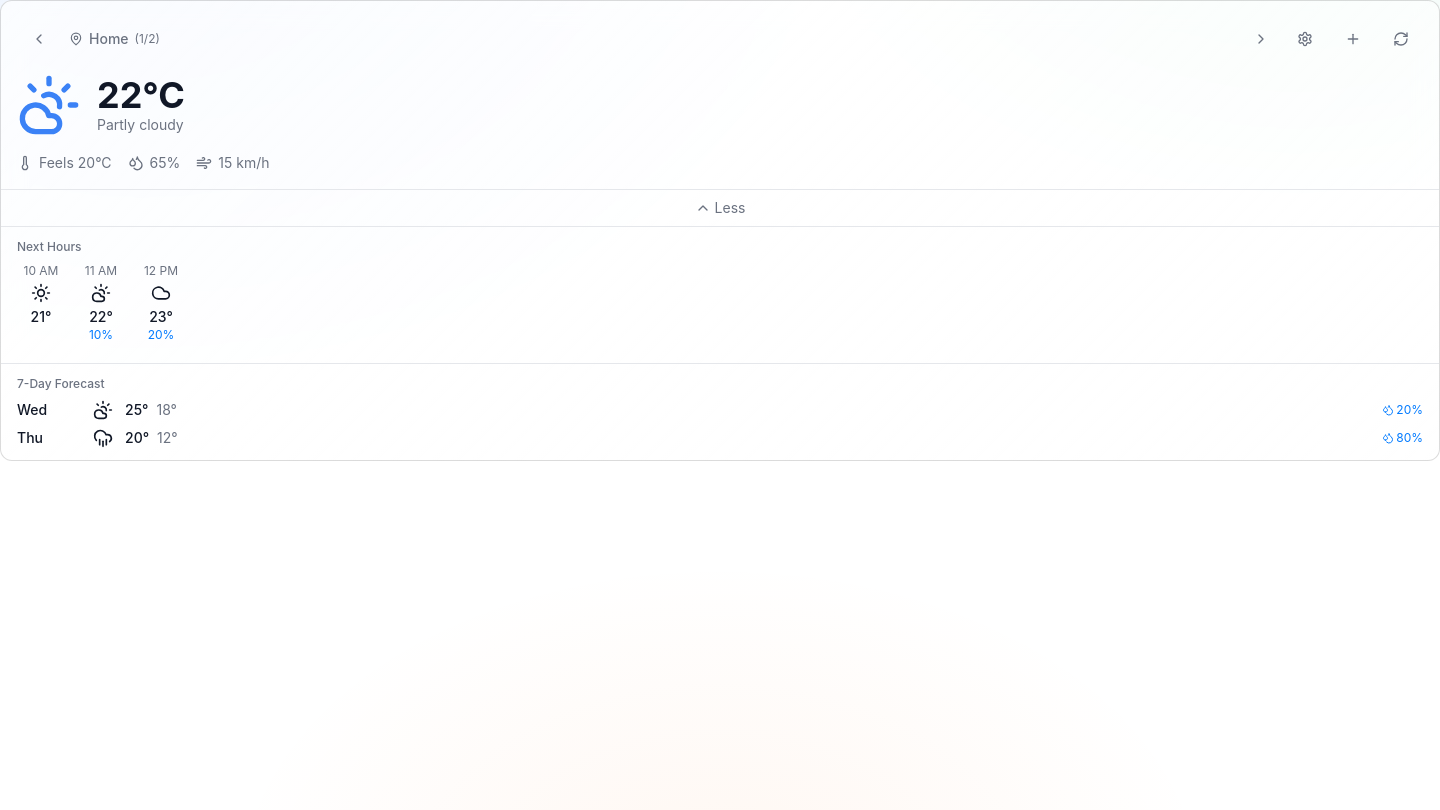
WeatherWidget › Add Location Modal › closes add location modal when cancel is clicked
Click the button titled "Add location" at (1353, 39), box [1331, 17, 1375, 61]
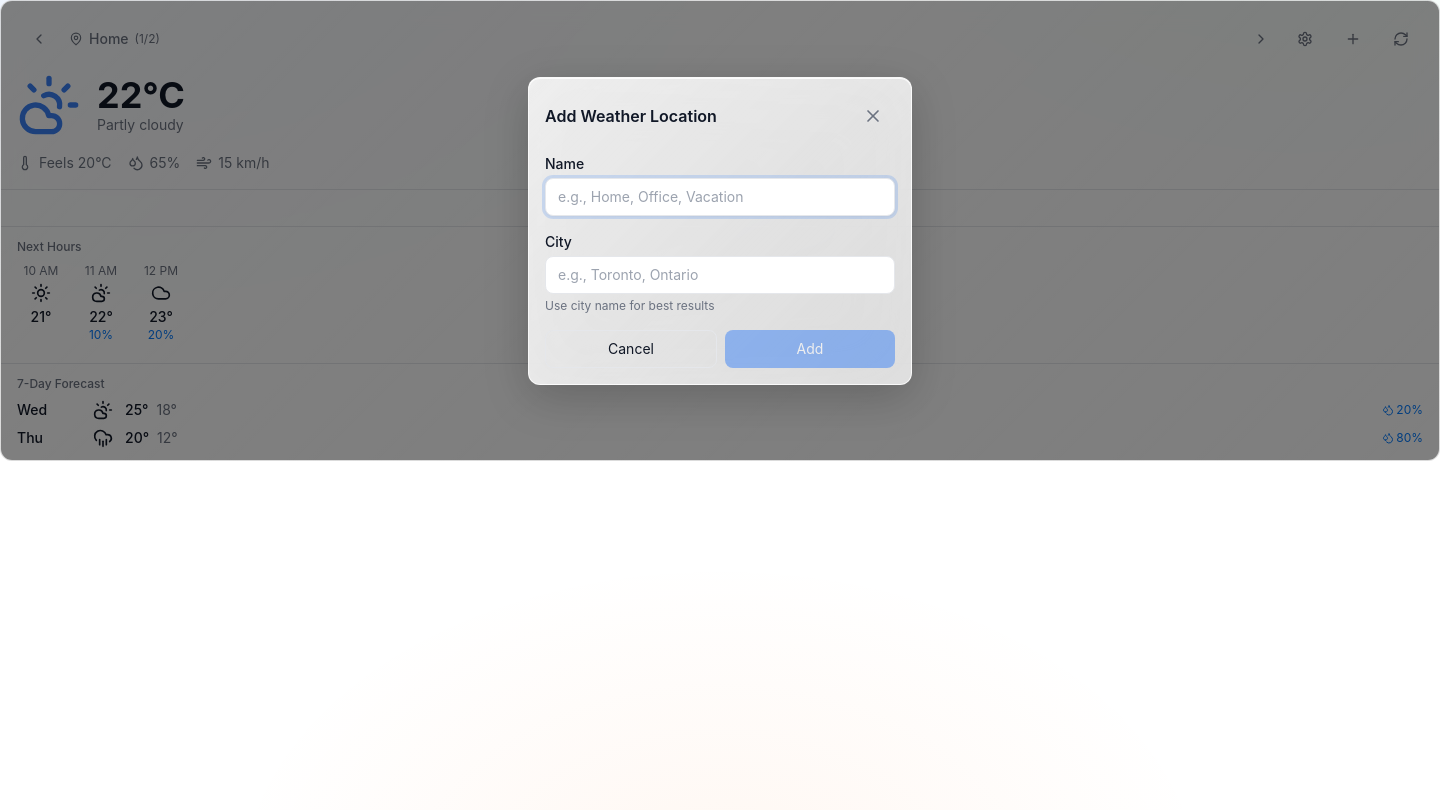
Click the button "Cancel" at (631, 348), box [545, 330, 717, 368]
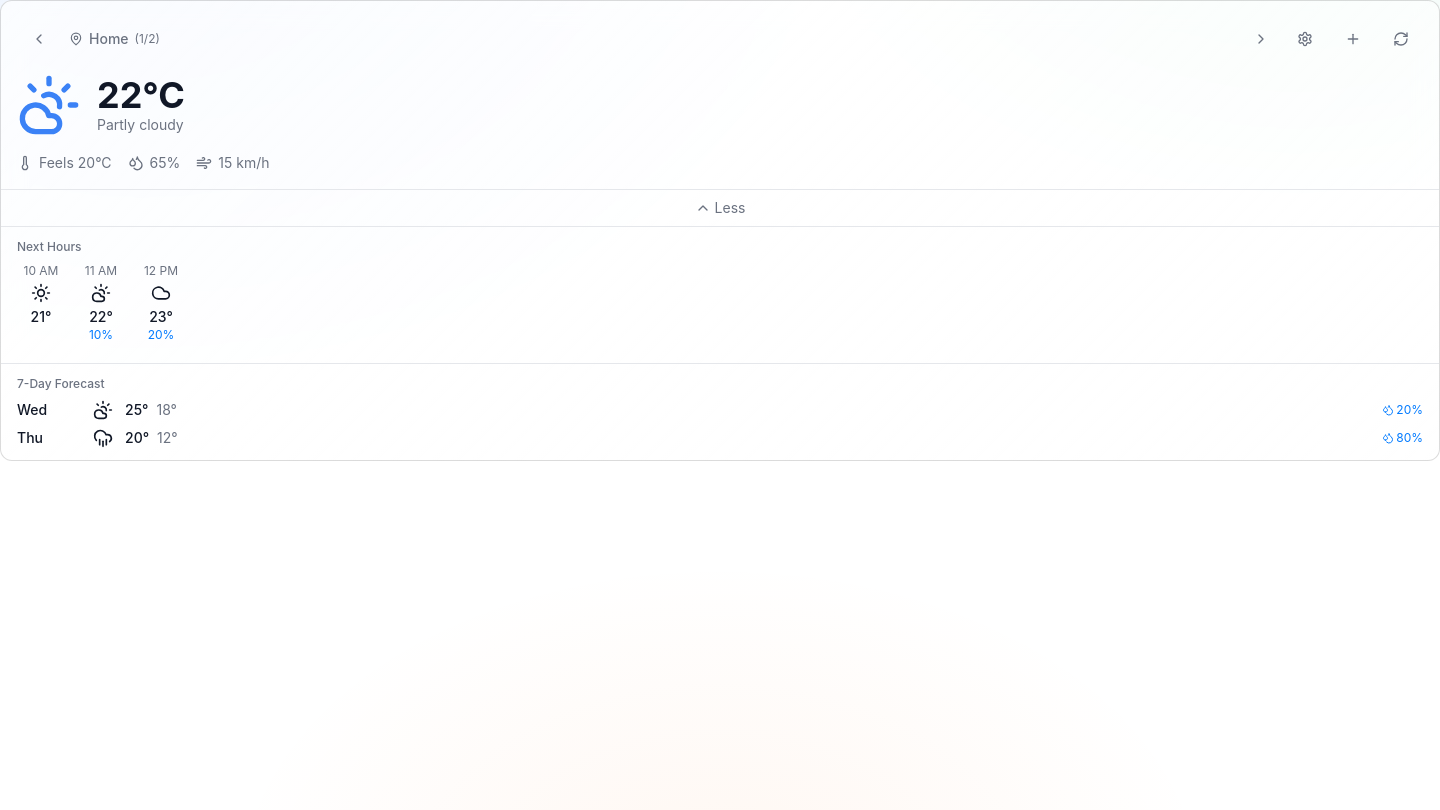
Expected: the heading "Add Weather Location" is gone
